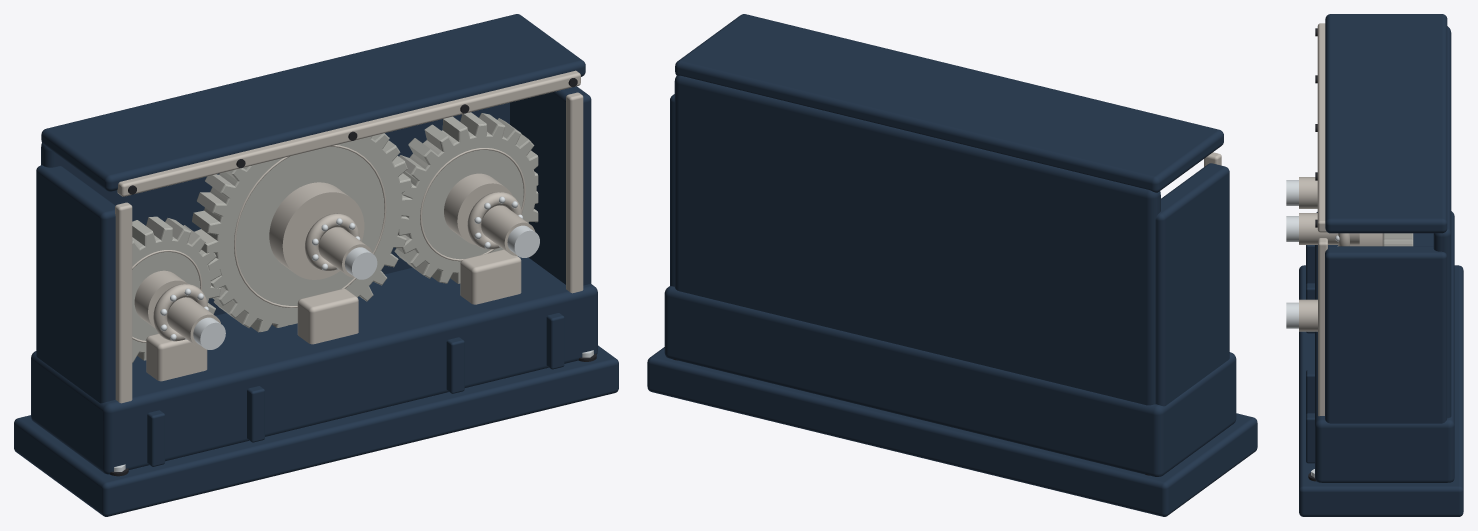
File: robots-43.glb
3 views of the same model, side by side, from view 1: azimuth 30°, elevation 25°; view 2: azimuth 150°, elevation 25°; view 3: azimuth 270°, elevation 25° (orthographic). The views are drawn at different scales.
Parts seen in each view (by area): view 1: case, idler, output, rim, bearings, input, shafts, webs; view 2: case; view 3: case, rim, shafts, webs, idler, output.
Part boxes in pixels (x1=…): case: x1=14, y1=14, x2=618, y2=516; idler: x1=192, y1=133, x2=412, y2=332; output: x1=394, y1=112, x2=538, y2=283; rim: x1=115, y1=70, x2=583, y2=403; bearings: x1=146, y1=192, x2=522, y2=381; input: x1=132, y1=216, x2=220, y2=362; shafts: x1=167, y1=205, x2=539, y2=349; webs: x1=147, y1=313, x2=564, y2=466; case: x1=647, y1=14, x2=1257, y2=516; case: x1=1299, y1=14, x2=1463, y2=516; rim: x1=1315, y1=23, x2=1327, y2=416; shafts: x1=1286, y1=177, x2=1359, y2=331; webs: x1=1306, y1=245, x2=1314, y2=463; idler: x1=1359, y1=233, x2=1413, y2=246; output: x1=1383, y1=238, x2=1413, y2=246.
Bounding box in the file's own units: 3 × 1.81 × 1.
